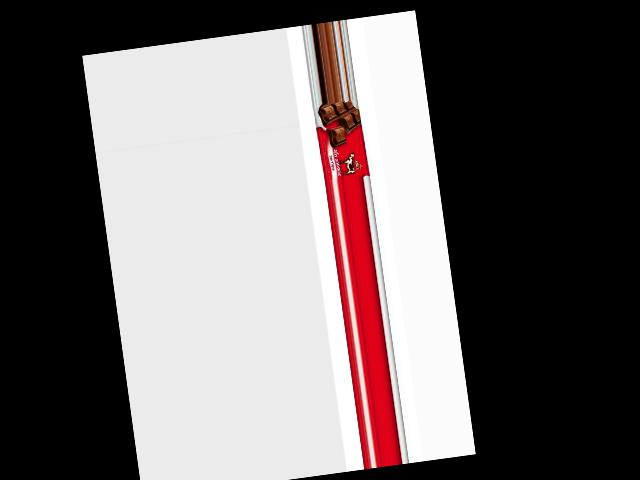chocolate: (313, 100, 369, 183)
